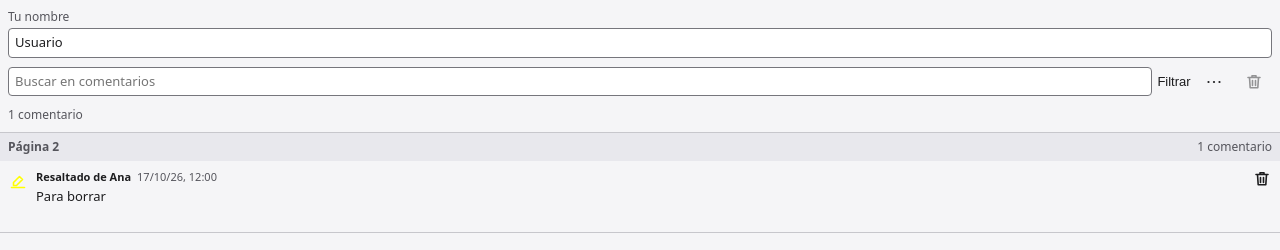
Test: Panel de comentarios (PDF-036) › el botón Borrar quita el comentario de la lista y del documento
Click the element with test id "comment-row-delete": coordinates (1262, 181) [1252,168,1272,194]
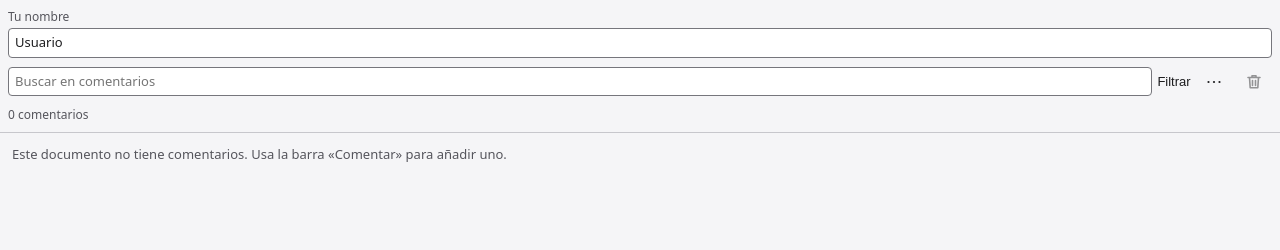
Now the option "Para borrar" is gone
